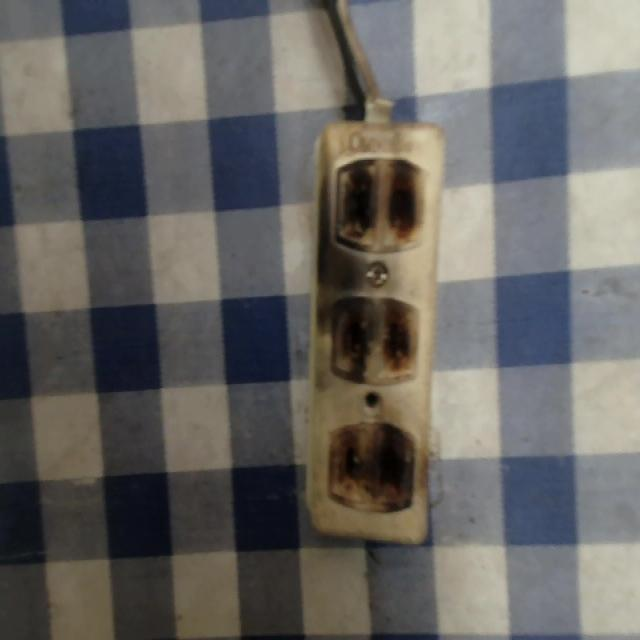-: (328, 151, 429, 256), (322, 418, 418, 518), (323, 291, 424, 384)
